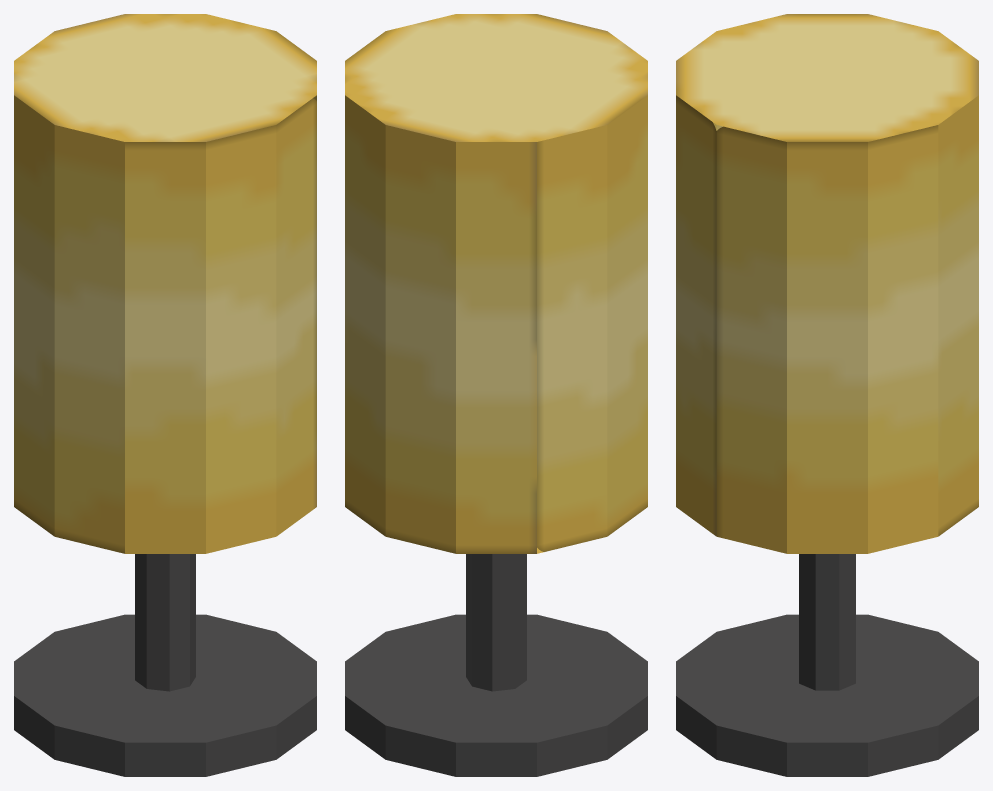
The model's file is lamp.fbx.
3 views of the same model, side by side, from view 1: azimuth 30°, elevation 25°; view 2: azimuth 150°, elevation 25°; view 3: azimuth 270°, elevation 25° (orthographic).
Visible parts, largest first — view 1: cylinder_1, cylinder, cylinder_2; view 2: cylinder_1, cylinder, cylinder_2; view 3: cylinder_1, cylinder, cylinder_2.
Part boxes in pixels (x1,y1,x2,y2): cylinder_1: [14, 14, 316, 553]; cylinder: [14, 614, 316, 776]; cylinder_2: [135, 554, 195, 691]; cylinder_1: [345, 14, 647, 553]; cylinder: [345, 614, 647, 776]; cylinder_2: [466, 554, 526, 691]; cylinder_1: [676, 14, 978, 553]; cylinder: [676, 614, 978, 776]; cylinder_2: [799, 554, 855, 690].
Bounding box in the file's own units: 100 × 231 × 100.
2 materials, 2 textured.
